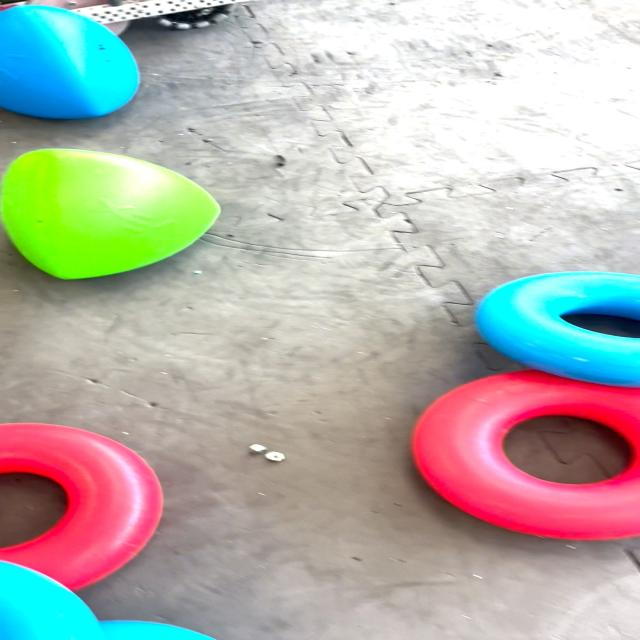Blue-Ring: (476, 271, 640, 388)
Red-Ring: (413, 370, 640, 540), (0, 422, 162, 590)
